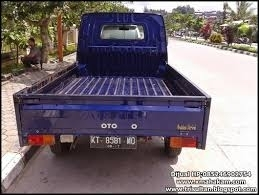plate: (89, 134, 138, 149)
